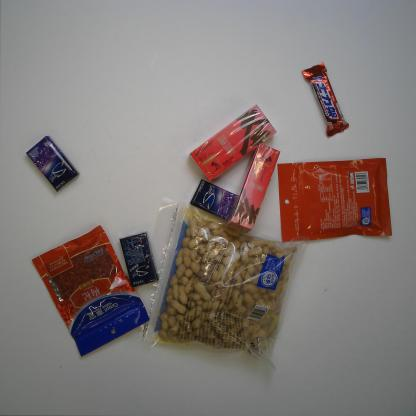Chocolate: (302, 61, 350, 141)
Dried Food: (131, 196, 309, 370)
Dried Fruit: (31, 225, 151, 357), (276, 154, 394, 243)
Gum: (24, 134, 80, 193), (118, 230, 161, 290), (189, 177, 243, 221)
Instant Drink: (188, 102, 276, 182), (223, 142, 280, 236)
